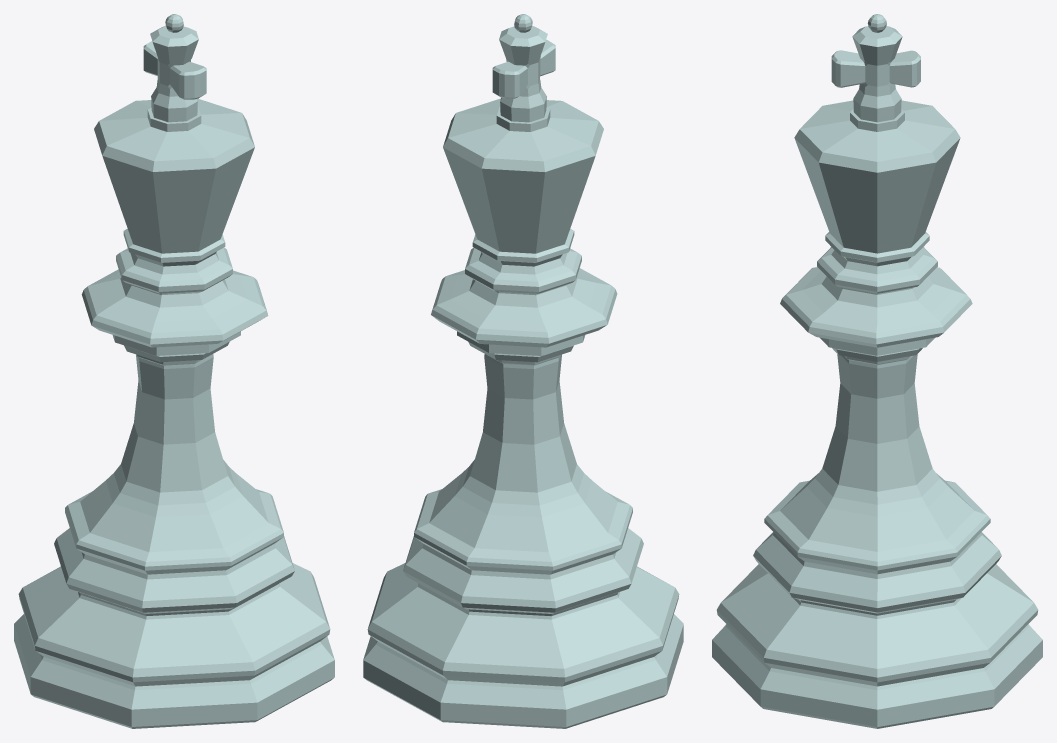
Rendered from white-king.obj.
3 renders of one model, left to right at view 1: azimuth 30°, elevation 25°; view 2: azimuth 150°, elevation 25°; view 3: azimuth 270°, elevation 25°, orthographic.
Parts seen in each view (by area): view 1: White_King_White_Square_0; view 2: White_King_White_Square_0; view 3: White_King_White_Square_0.
Part boxes in pixels (x1,y1,x2,y2): White_King_White_Square_0: (14,14,334,728); White_King_White_Square_0: (363,14,683,728); White_King_White_Square_0: (712,14,1042,728).
Size of the model in its own units: 4 by 8.61 by 4.
